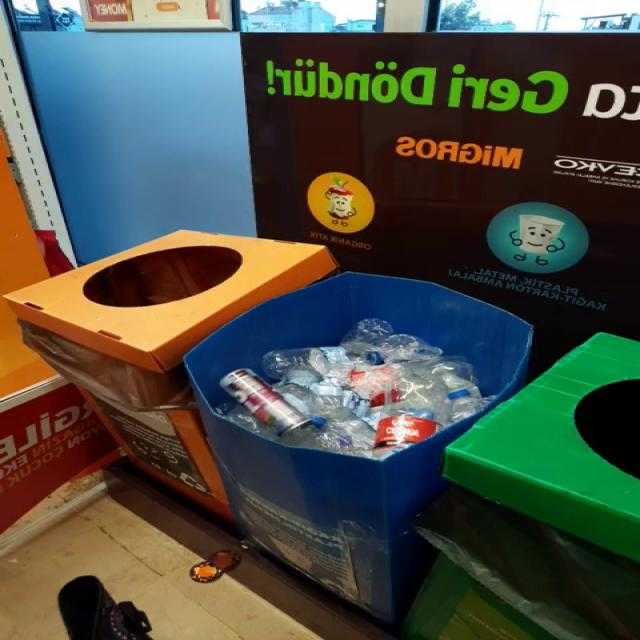bin: (4, 231, 532, 625)
metal: (219, 370, 309, 436)
